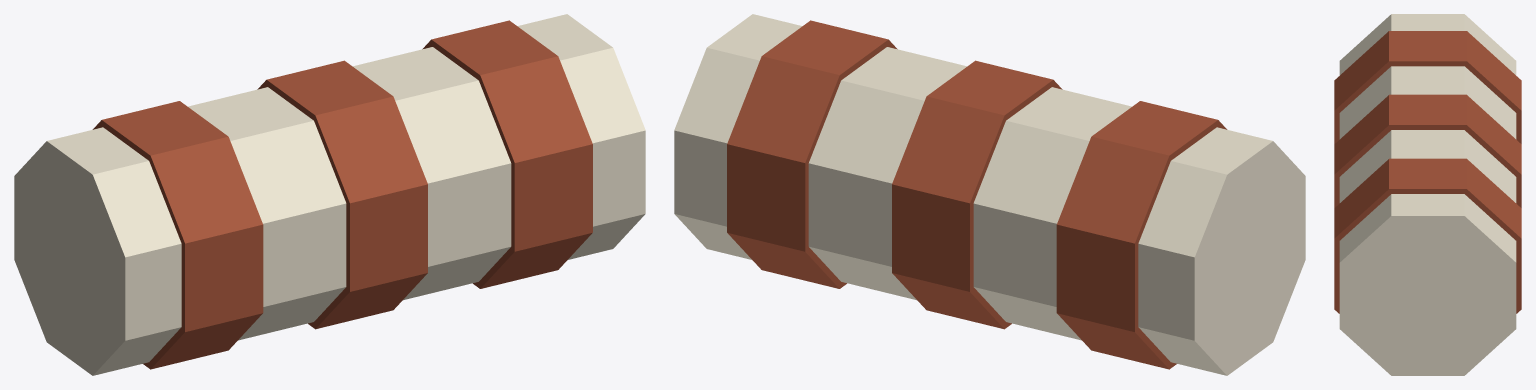
File: villager-cargo-cloth.glb
3 views of the same model, side by side, from view 1: azimuth 30°, elevation 25°; view 2: azimuth 150°, elevation 25°; view 3: azimuth 270°, elevation 25° (orthographic). The views are drawn at different scales.
Visible parts, largest first — view 1: villager-cargo-cloth; view 2: villager-cargo-cloth; view 3: villager-cargo-cloth.
Part boxes in pixels (box(x1,y1,x2,y2)): villager-cargo-cloth: box(14, 14, 645, 375); villager-cargo-cloth: box(674, 14, 1305, 375); villager-cargo-cloth: box(1334, 14, 1521, 375).
Size of the model in its own units: 1.2 by 0.4712 by 0.4712.
1 material, 1 textured.
